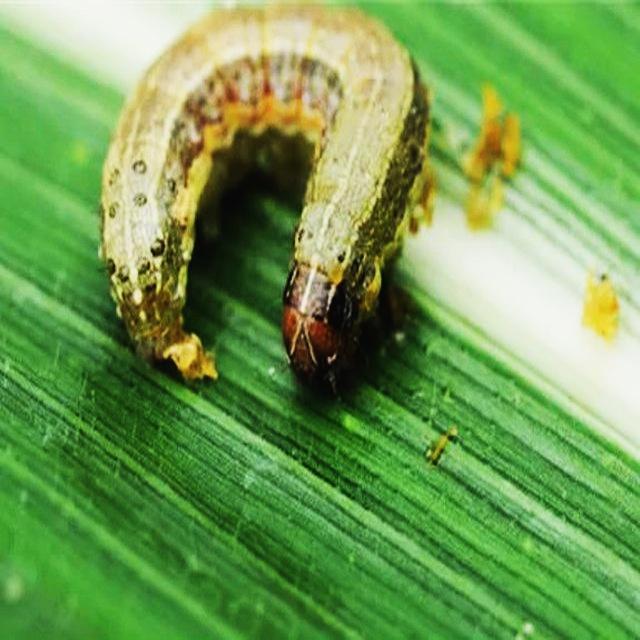Plaga: (98, 1, 442, 404)
